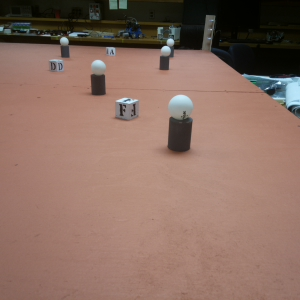blockA: (107, 46, 116, 58)
blockD: (49, 57, 63, 72)
blockF: (116, 96, 139, 121)
corner: (203, 9, 214, 52)
obstacle: (166, 93, 194, 152), (90, 59, 106, 96), (159, 46, 170, 70), (59, 36, 71, 56), (167, 39, 174, 53)
